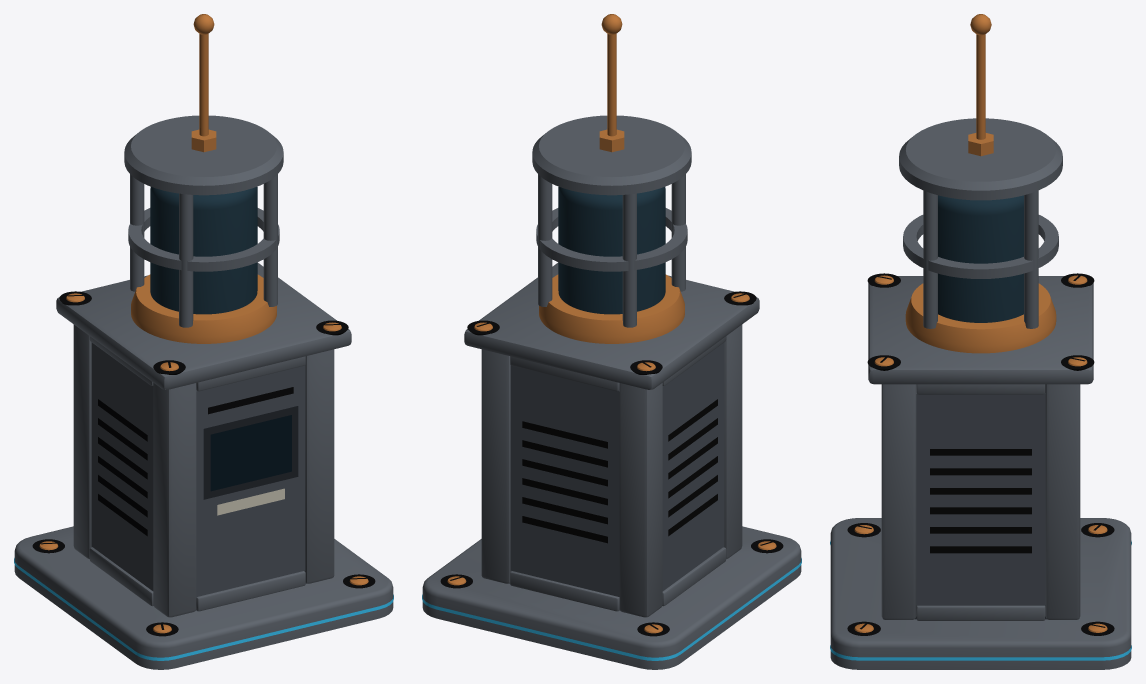
File: beacon.glb
3 views of the same model, side by side, from view 1: azimuth 30°, elevation 25°; view 2: azimuth 150°, elevation 25°; view 3: azimuth 270°, elevation 25° (orthographic). The views are drawn at different scales.
Parts seen in each view (by area): view 1: Housing; view 2: Housing; view 3: Housing.
Boxes of the visible parts, box(x1,y1,x2,y2) form: Housing: box(14, 14, 393, 669); Housing: box(422, 14, 801, 669); Housing: box(830, 14, 1131, 669).
Size of the model in its own units: 0.2248 by 0.486 by 0.2248.
